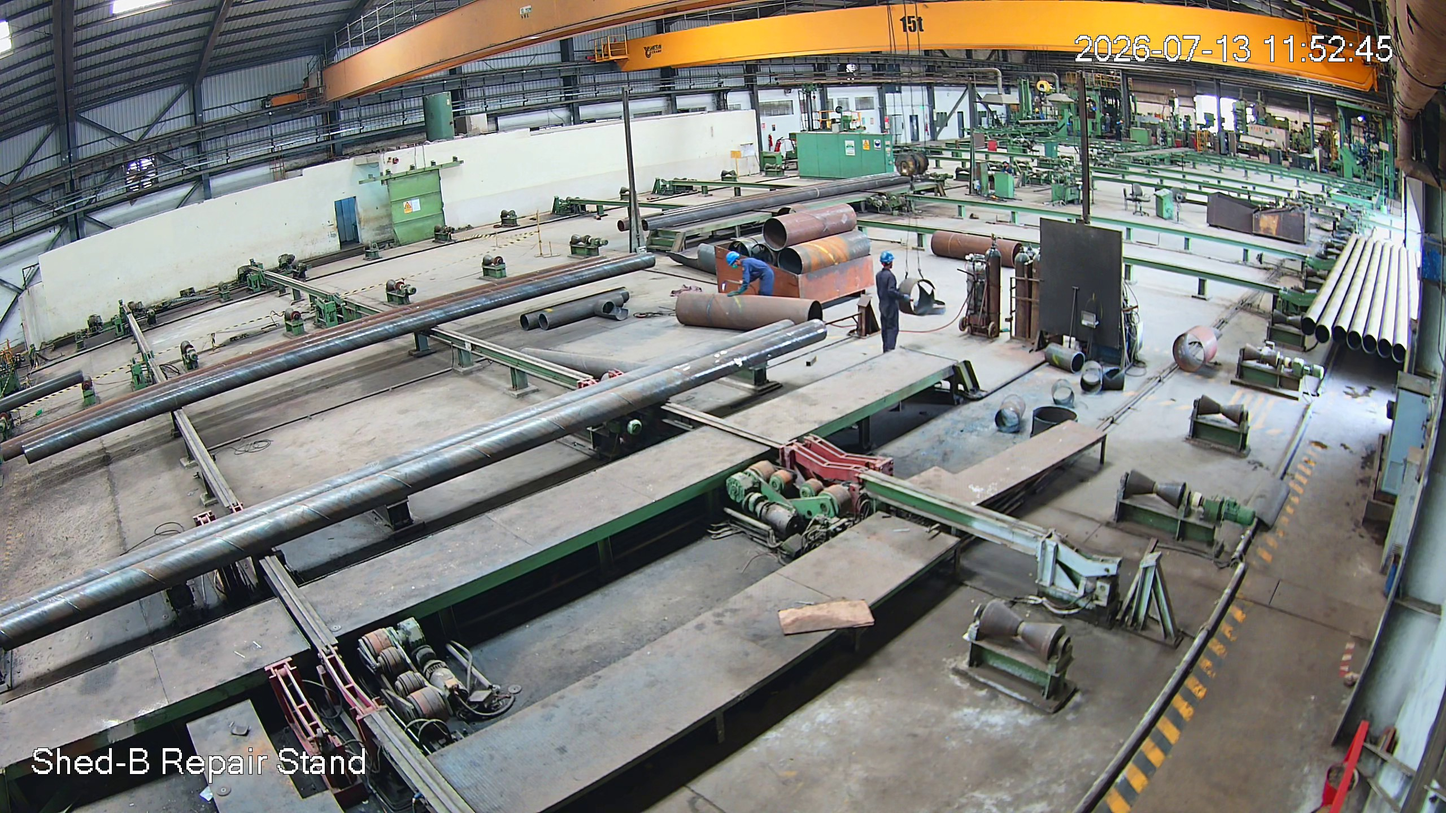Helmet: (727, 251, 746, 272), (880, 251, 897, 272)
Person: (873, 255, 911, 348), (726, 253, 775, 298)
